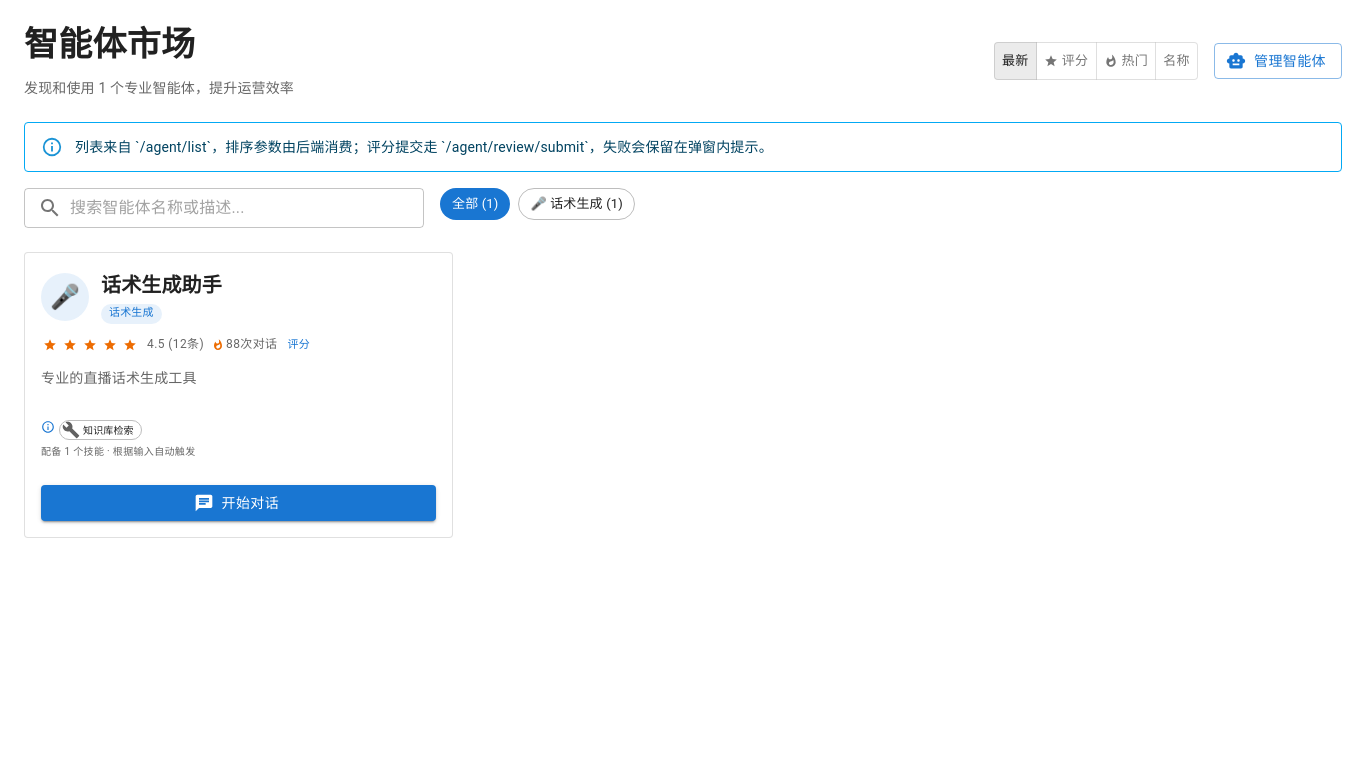
it: AgentMarketPage › keeps review submit errors visible in dialog
This screenshot has width=1366, height=768.
Expected: the heading "话术生成助手" is shown, [101,273,222,297]
Click the button with aria-label "评价 话术生成助手": [299, 345] box [286,333,312,356]
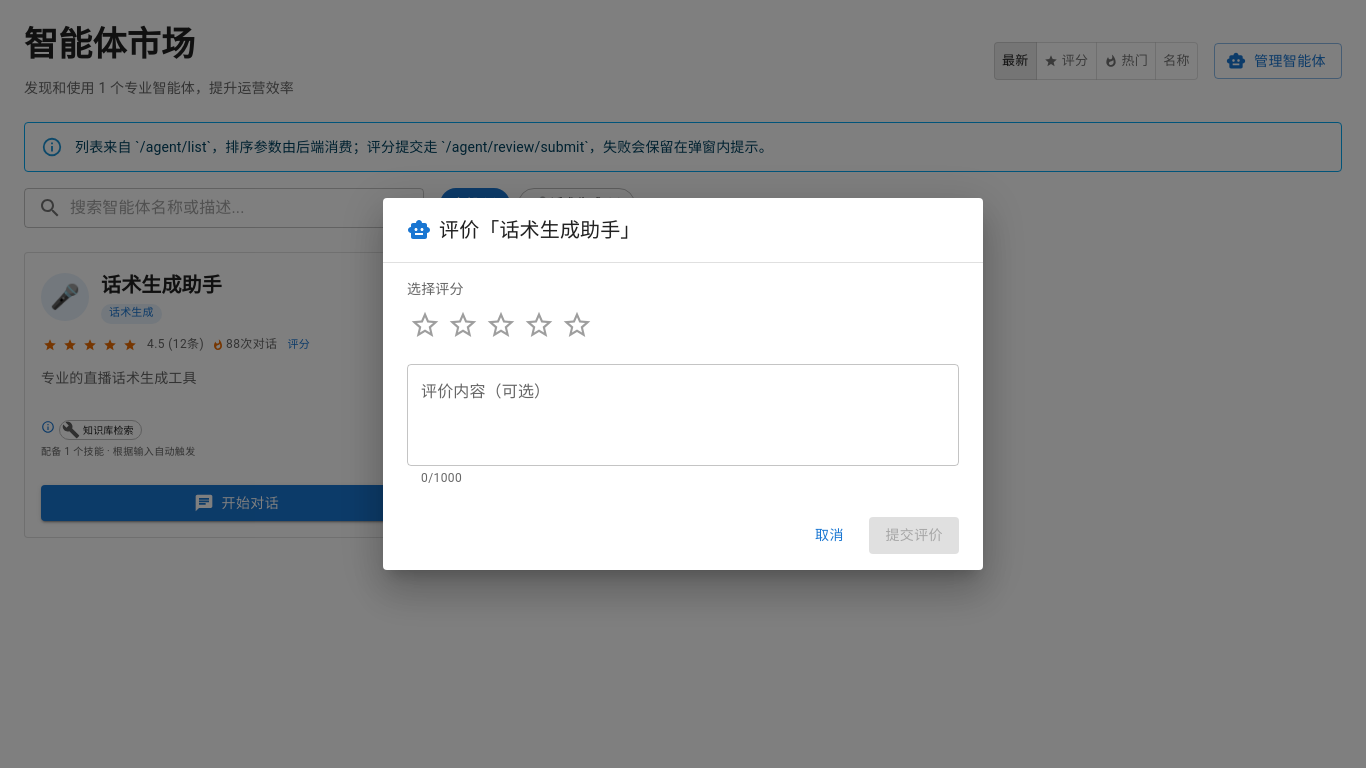
Expected: the heading "评价「话术生成助手」" is shown, [439,214,640,246]
In the text box labelled "评价内容（可选）": [683, 415] box [421,381,945,450], type "这个智能体适合直播间话术改写"
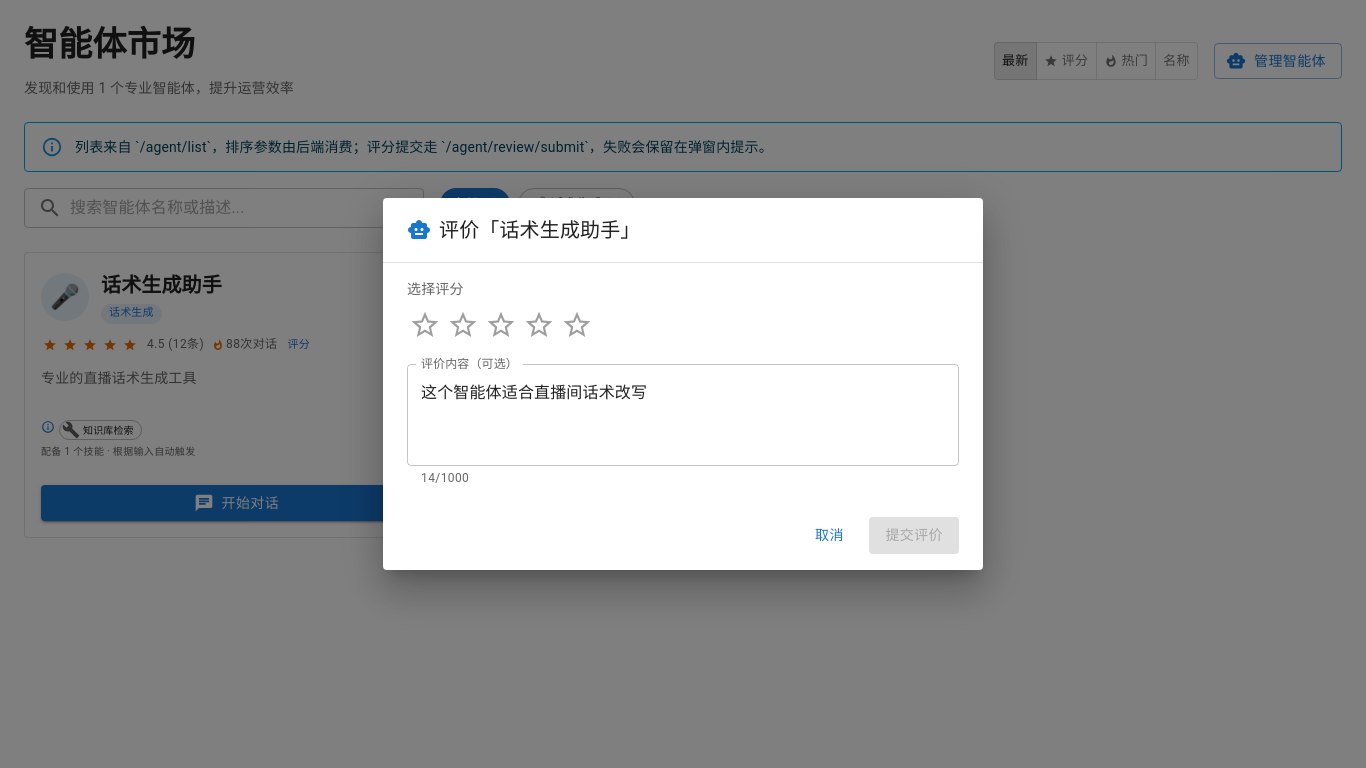
Click the 1st button: [425, 325] box [407,307,443,343]
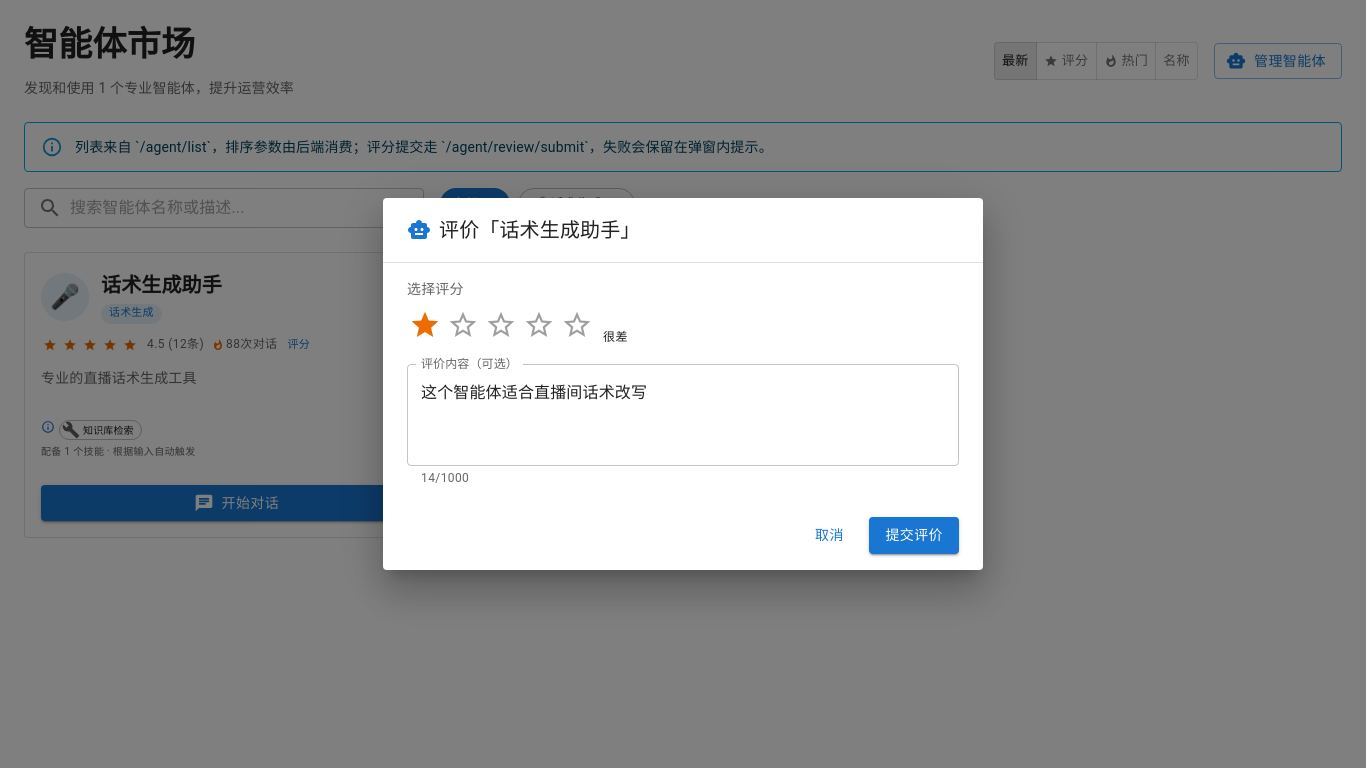
Click the button "提交评价": [914, 535] box [869,517,959,554]
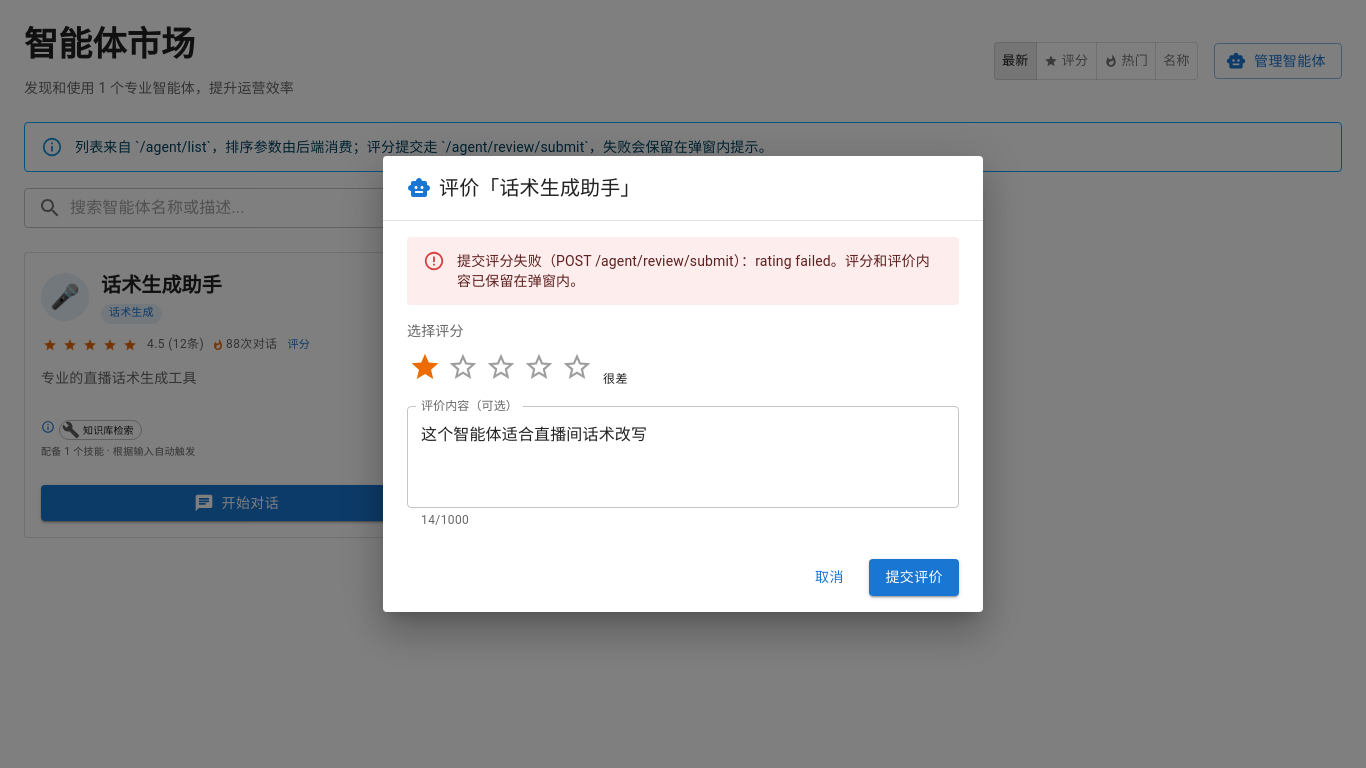
Expected: the message with test id "agent-review-submit-error" shows "提交评分失败（POST /agent/review/submit）：rating failed", [407,237,959,305]
